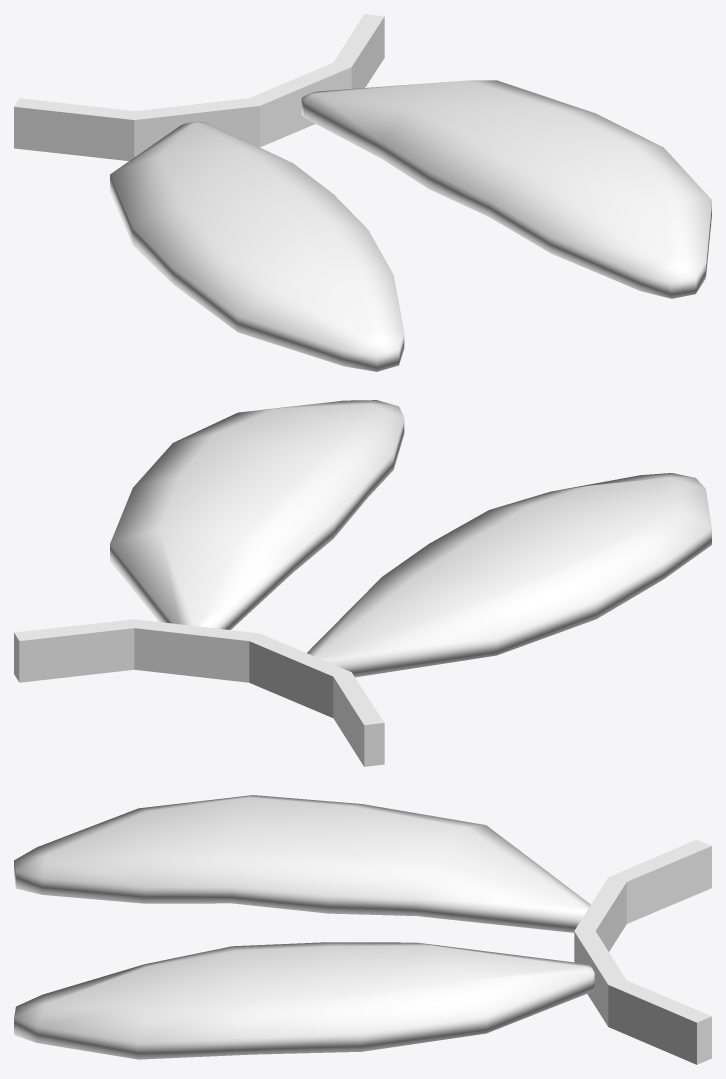
File: hat-bunny.glb
3 views of the same model, one above another, from view 1: azimuth 30°, elevation 25°; view 2: azimuth 150°, elevation 25°; view 3: azimuth 270°, elevation 25° (orthographic).
Parts seen in each view (by area): view 1: hat-bunny; view 2: hat-bunny; view 3: hat-bunny.
Part boxes in pixels (x1,y1,x2,y2): hat-bunny: [14, 14, 711, 371]; hat-bunny: [14, 400, 711, 766]; hat-bunny: [14, 795, 711, 1064].
Size of the model in its own units: 1.23 by 0.1749 by 1.5.
Materials: 1 (1 with a texture image).
